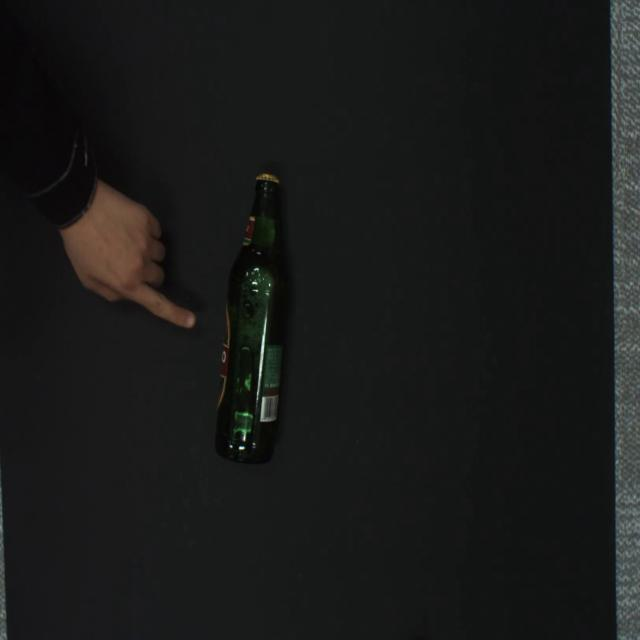beer-bottle: (214, 172, 289, 465)
